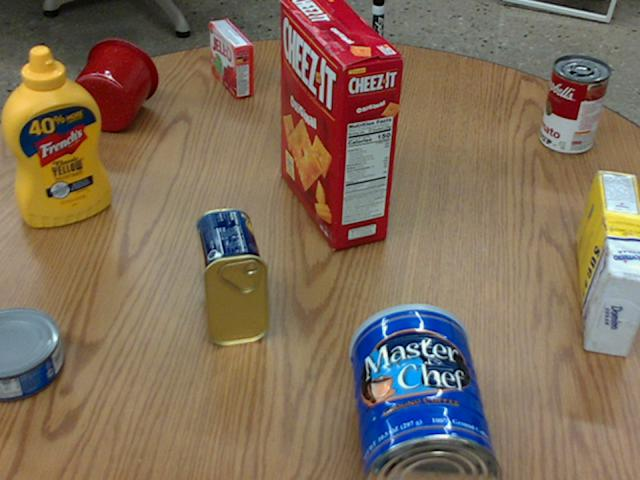cracker_box: (278, 0, 402, 247)
gelatin_box: (211, 19, 254, 97)
large_marker: (368, 0, 384, 68)
master_chef_can: (349, 303, 501, 479)
mug: (67, 38, 158, 131)
mustard_bottle: (2, 45, 110, 226)
potted_meat_can: (194, 207, 267, 345)
sugar_box: (575, 171, 639, 357)
tomato_soup_can: (539, 56, 609, 154)
tuna_fish_can: (0, 306, 62, 397)
